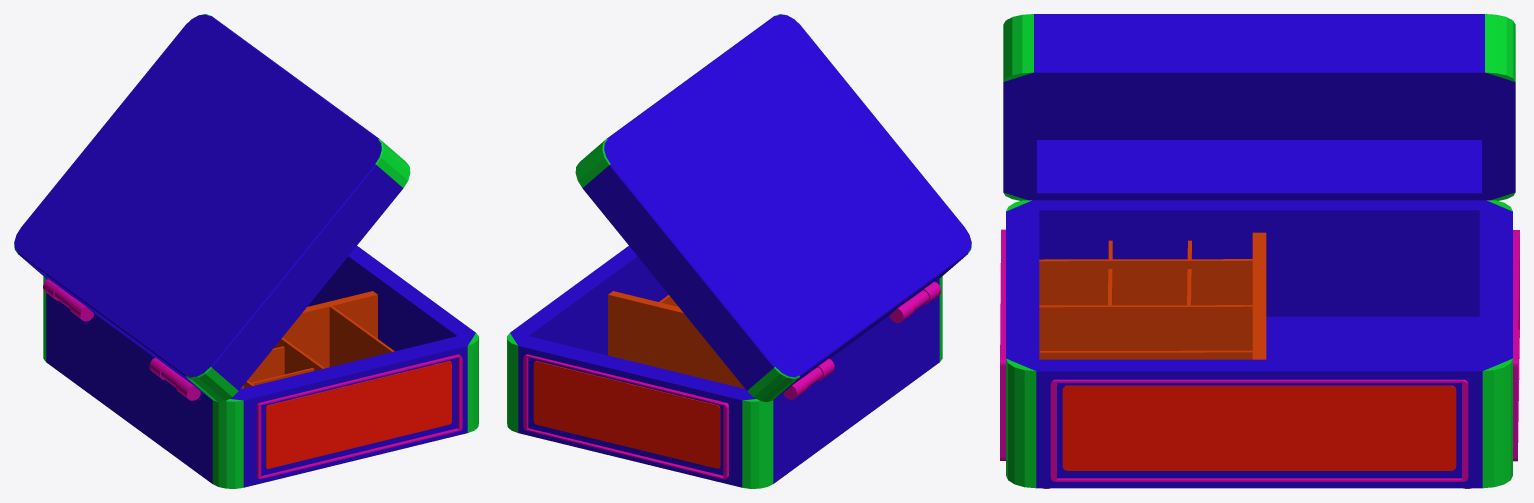
Rendered from SM_boiteabijoux.fbx.
3 views of the same model, side by side, from view 1: azimuth 30°, elevation 25°; view 2: azimuth 150°, elevation 25°; view 3: azimuth 270°, elevation 25° (orthographic). The views are drawn at different scales.
Parts seen in each view (by area): view 1: pCube14; view 2: pCube14; view 3: pCube14.
Part boxes in pixels (<box>): pCube14: <box>14,14,478,488</box>; pCube14: <box>507,14,971,488</box>; pCube14: <box>1000,14,1519,488</box>.
Size of the model in its own units: 112 by 116 by 128.
